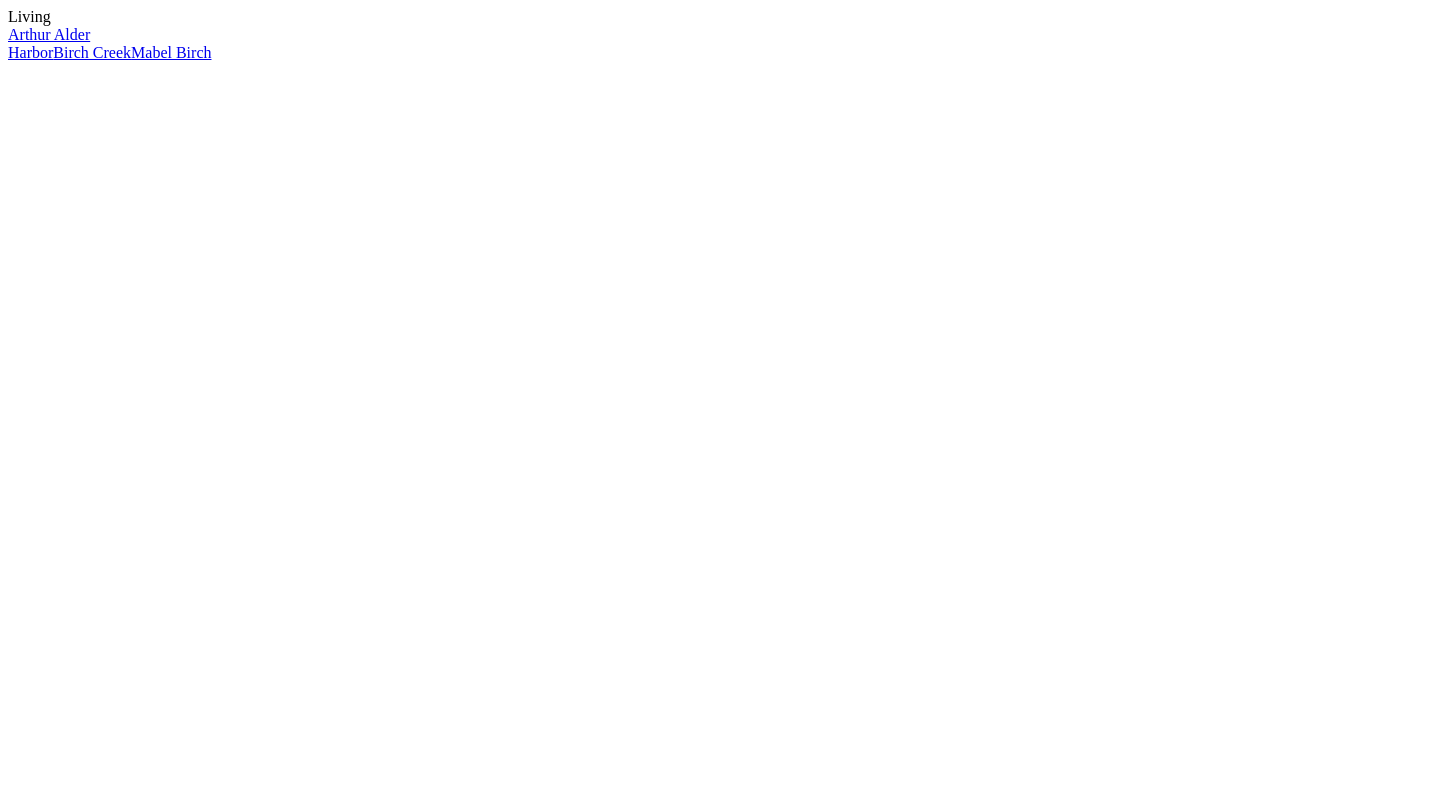
Test case: InlineEntityMention branch coverage › covers person/place mentions, living redaction, hover/focus/blur, Escape, outside click, and non-router links
Earlier steps of the test are not shown.
Later steps or results of the test are not shown.
Hover over the link with class "inline-entity-link" showing "Harbor" at x=31, y=52, box x1=8 y1=44 x2=53 y2=61
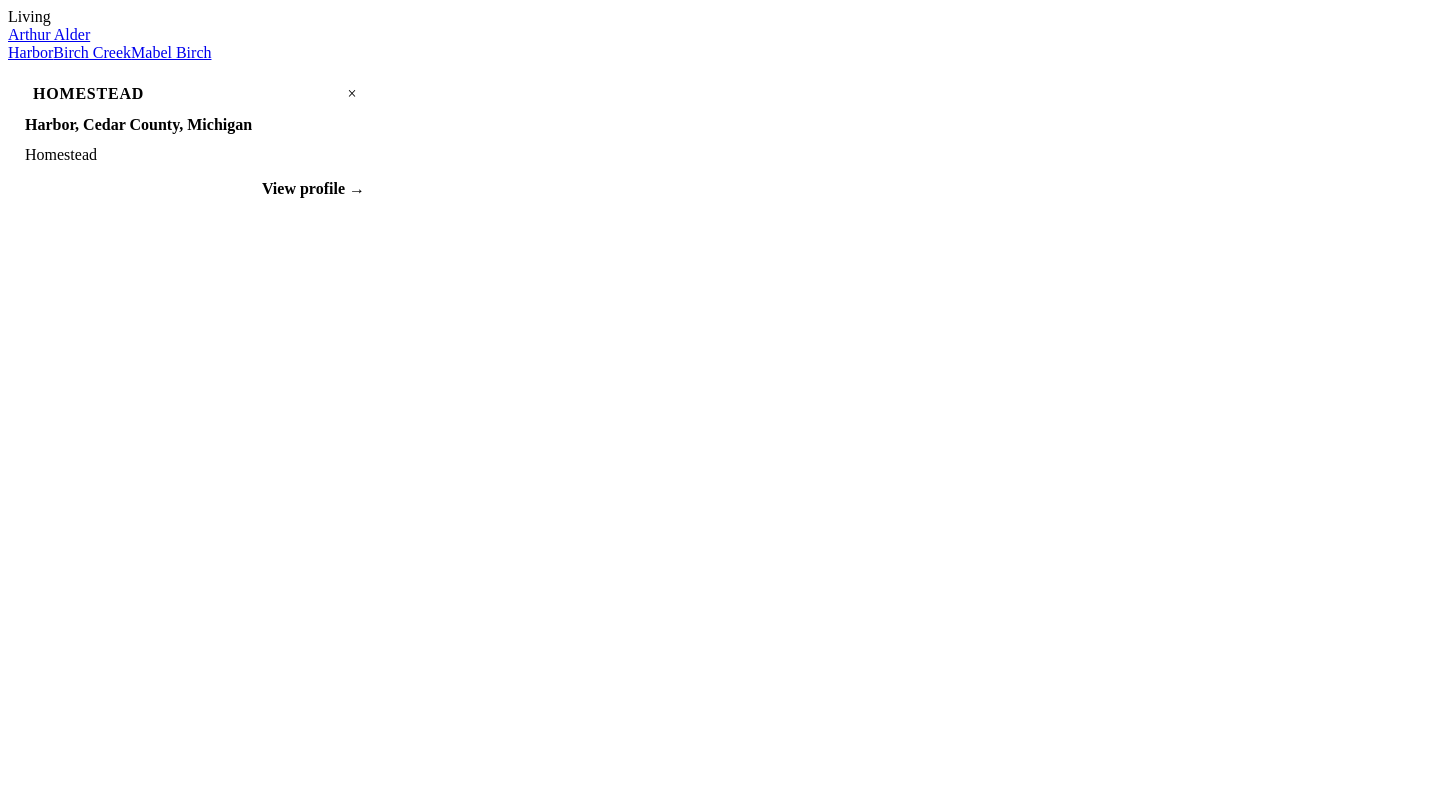
expect the dialog is shown: met
Press the mouse on the dialog at x=89, y=94, box x1=12 y1=69 x2=378 y2=210
expect the dialog is shown: met, box x1=12 y1=69 x2=378 y2=210
Move the pointer off the link with class "inline-entity-link" showing "Harbor", box x1=8 y1=44 x2=53 y2=61
Wait 200 ms
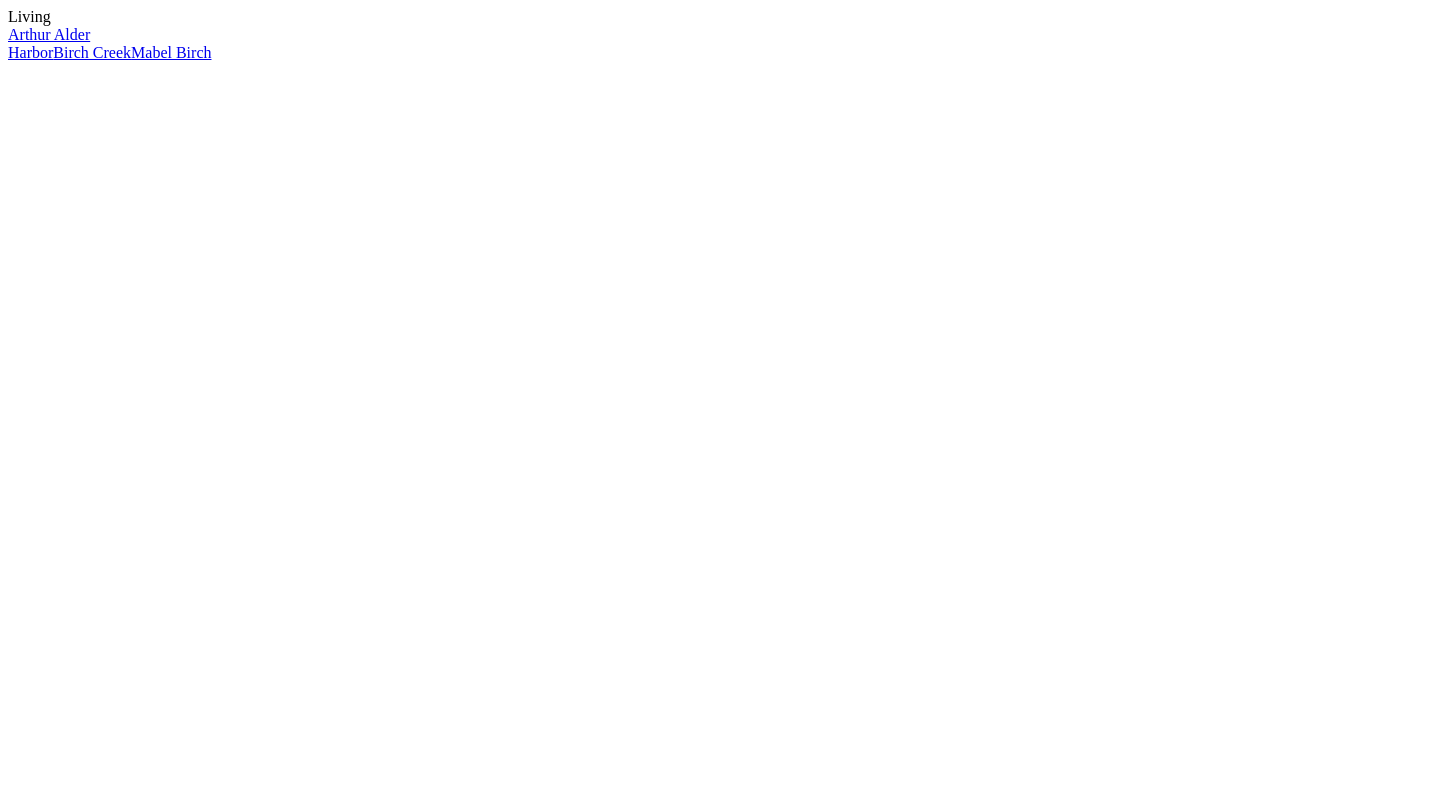
Hover over the link with class "inline-entity-link" showing "Birch Creek" at x=92, y=52, box x1=53 y1=44 x2=131 y2=61
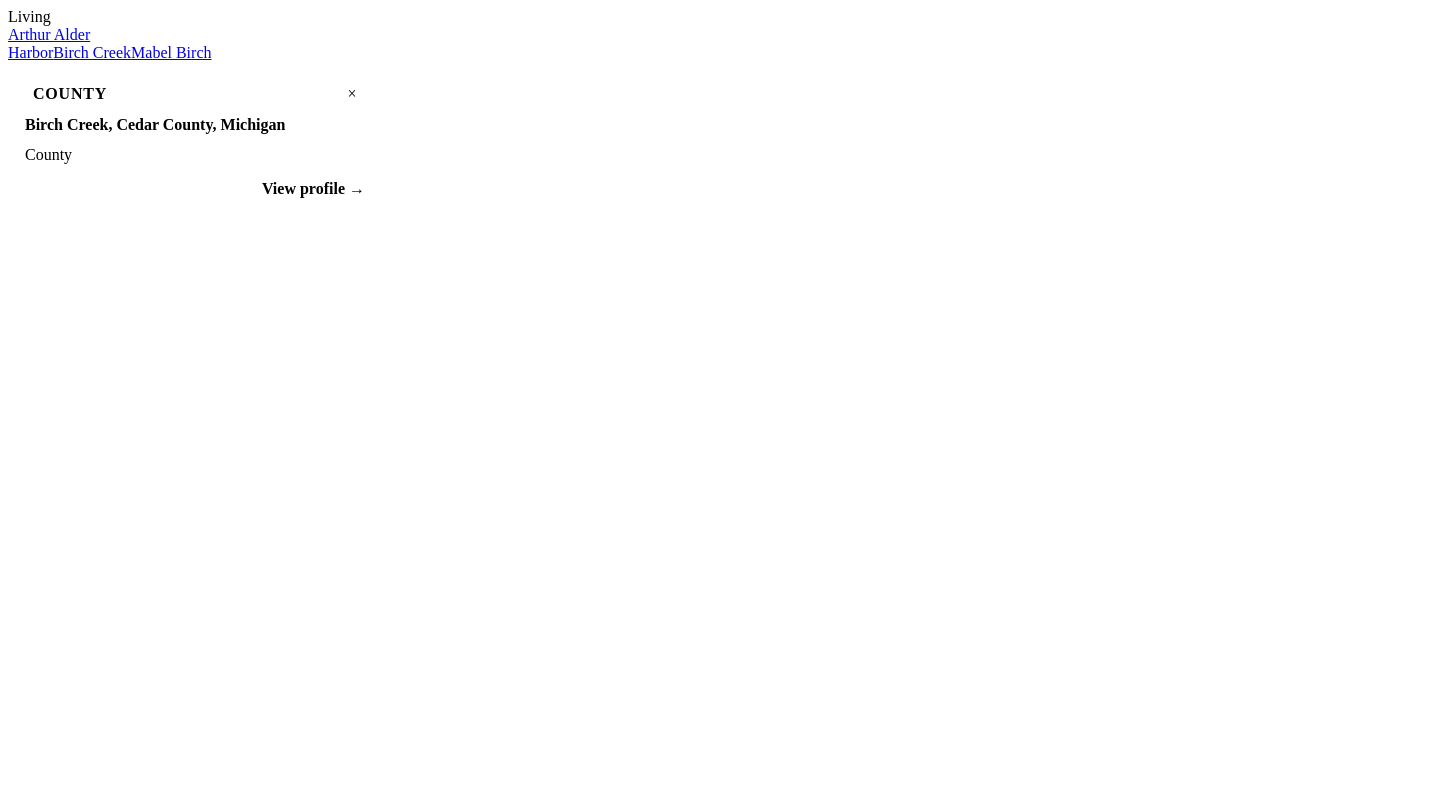
expect the dialog is shown: met
Press the mouse on the dialog at x=70, y=94, box x1=12 y1=69 x2=378 y2=210
expect the dialog is shown: met, box x1=12 y1=69 x2=378 y2=210
Move the pointer off the link with class "inline-entity-link" showing "Birch Creek", box x1=53 y1=44 x2=131 y2=61
Wait 200 ms
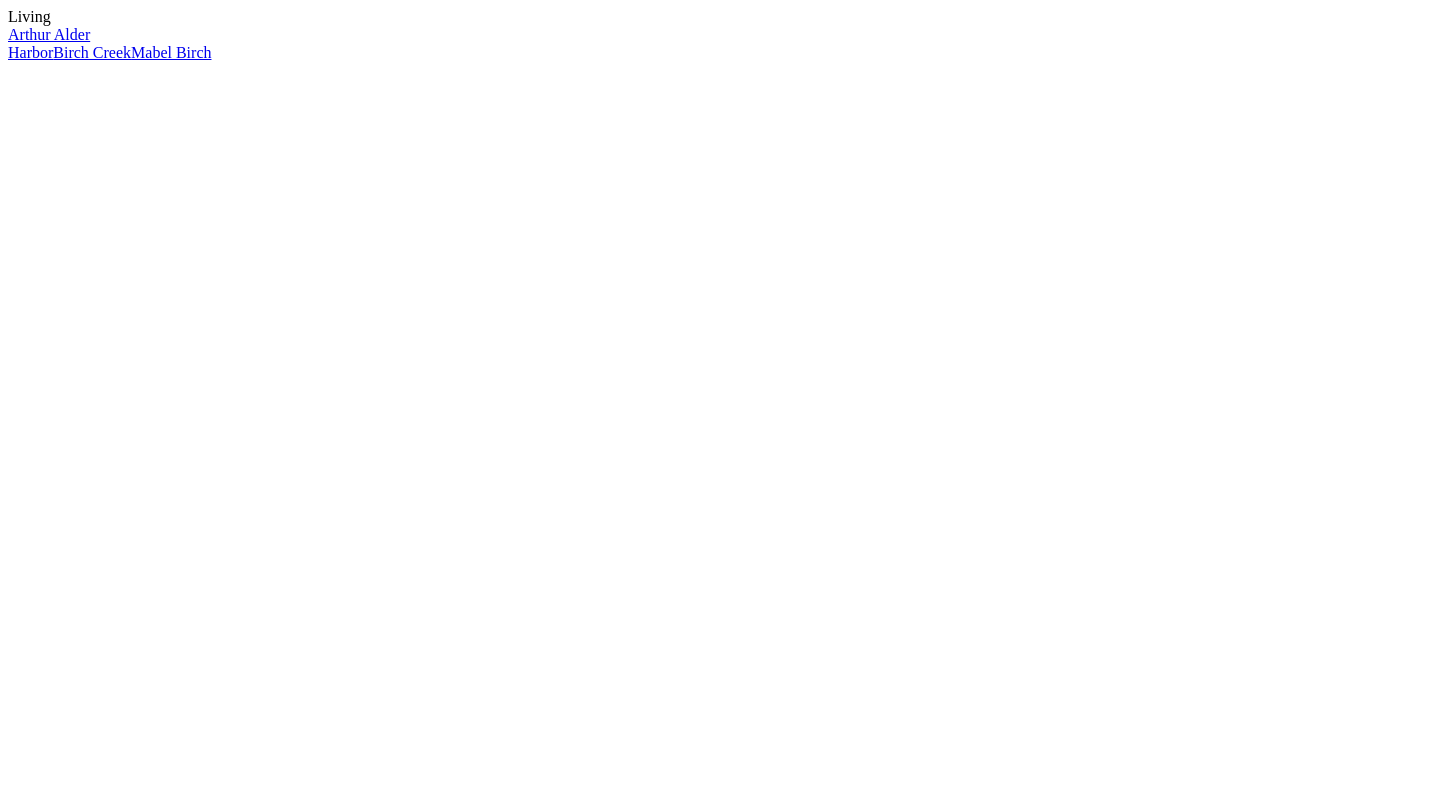
Hover over the link with class "inline-entity-link" showing "Mabel Birch" at x=171, y=52, box x1=131 y1=44 x2=212 y2=61
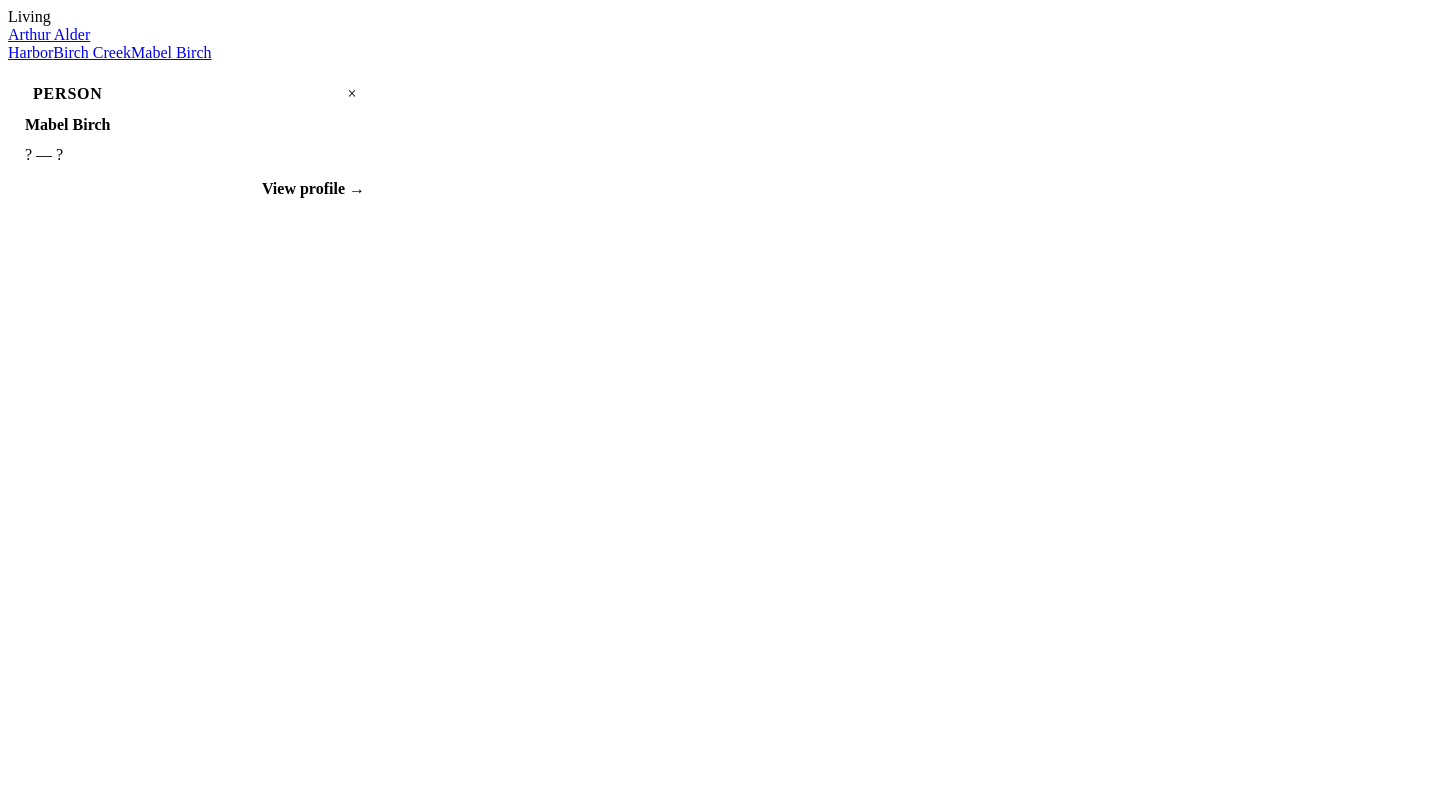
expect the dialog is shown: met
Press the mouse on the dialog at x=68, y=94, box x1=12 y1=69 x2=378 y2=210
expect the dialog is shown: met, box x1=12 y1=69 x2=378 y2=210
